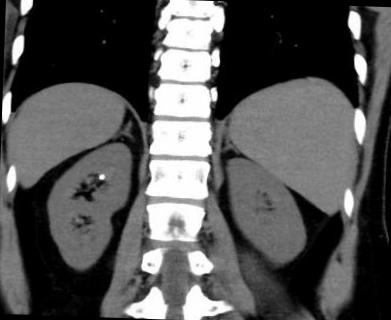Tas_Var: (98, 172, 106, 180)
